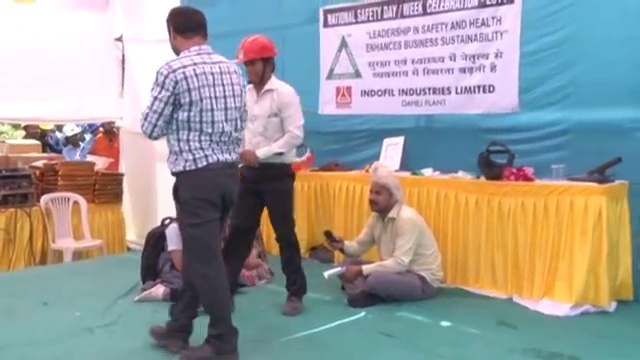helmet: (235, 35, 276, 64), (86, 154, 114, 172), (61, 124, 82, 139), (87, 123, 100, 134)
helmet_off: (153, 4, 214, 61), (360, 174, 405, 222), (20, 122, 40, 141), (101, 121, 116, 136)
helmet_on: (233, 35, 280, 90), (61, 123, 83, 149), (87, 122, 102, 139)
person: (139, 0, 250, 360), (223, 36, 311, 318), (319, 169, 441, 314), (132, 214, 185, 303), (90, 121, 118, 170), (60, 124, 91, 159)
